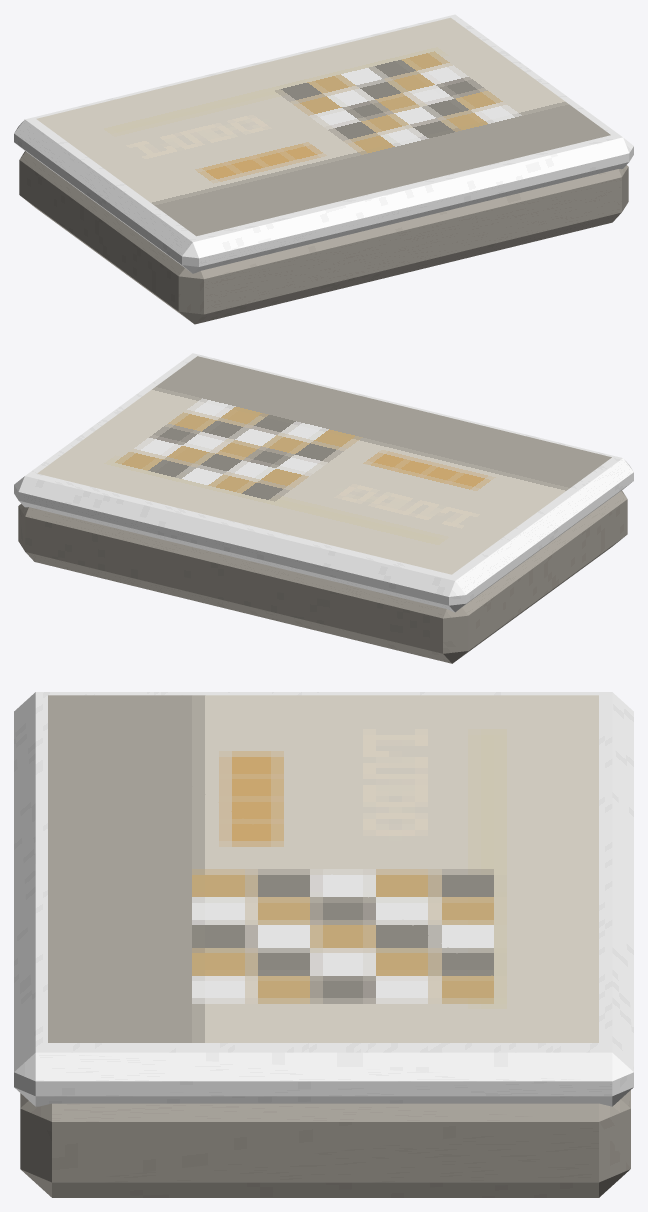
The model's file is ludo.glb.
3 views of the same model, one above another, from view 1: azimuth 30°, elevation 25°; view 2: azimuth 150°, elevation 25°; view 3: azimuth 270°, elevation 25° (orthographic). The views are drawn at different scales.
Visible parts, largest first — view 1: block_original board game package artwork, block_game case, block_fitted lid; view 2: block_original board game package artwork, block_game case, block_fitted lid; view 3: block_original board game package artwork, block_fitted lid, block_game case.
Part boxes in pixels (x1,y1,x2,y2): block_original board game package artwork: (36,17,610,236); block_game case: (19,151,628,324); block_fitted lid: (14,14,633,273); block_original board game package artwork: (37,356,611,574); block_game case: (18,490,627,663); block_fitted lid: (14,353,633,612); block_original board game package artwork: (48,695,598,1042); block_fitted lid: (14,692,633,1106); block_game case: (20,1090,630,1197).
Size of the model in its own units: 0.2749 by 0.0517 by 0.1901.
Materials: 1 (1 with a texture image).
